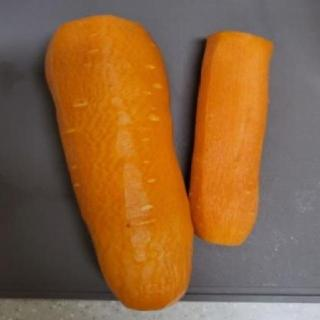carrot: (37, 9, 199, 317), (182, 26, 272, 252)
